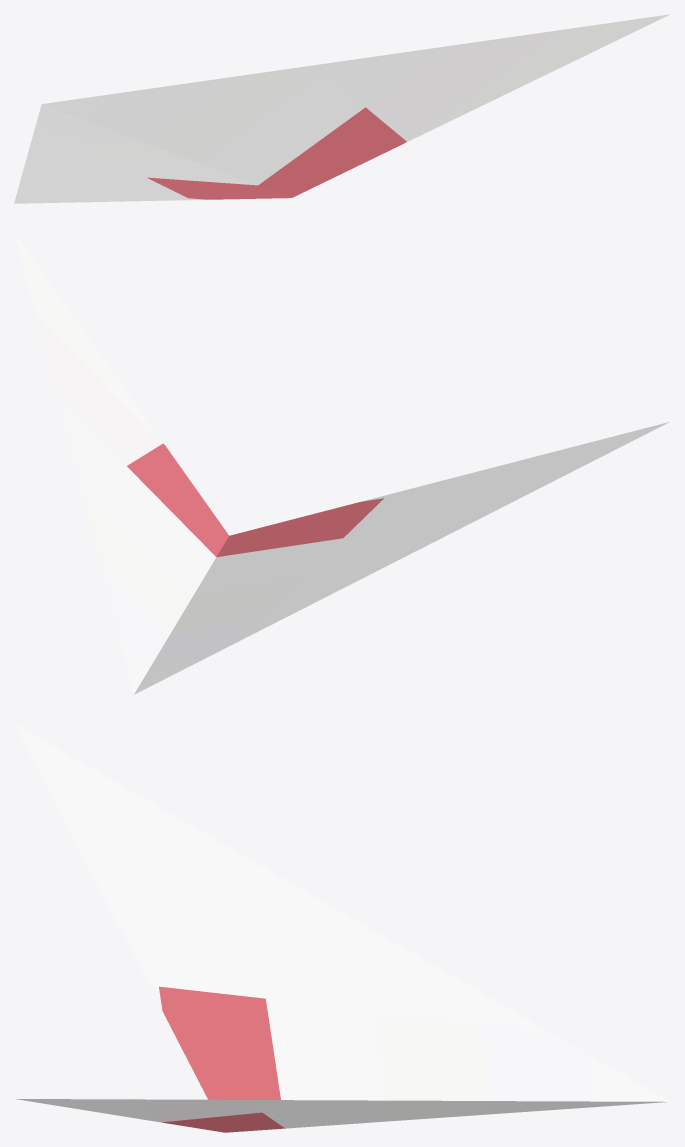
Rendered from mp-0060-geode.glb.
3 renders of one model, top to bottom at view 1: azimuth 30°, elevation 25°; view 2: azimuth 150°, elevation 25°; view 3: azimuth 270°, elevation 25°, orthographic. The views are drawn at different scales.
Visible parts, largest first — view 1: Node; view 2: Node; view 3: Node.
Part boxes in pixels (x1,y1,x2,y2): Node: (14,14,669,203); Node: (14,232,669,694); Node: (14,723,670,1132).
Bounding box in the file's own units: 0.2429 × 0.0654 × 0.1632.
Materials: 1 (1 with a texture image).
